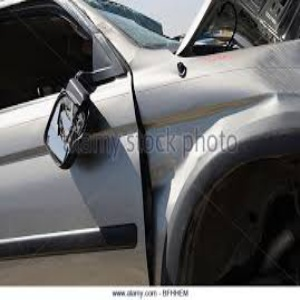side_mirror: (36, 72, 90, 171)
